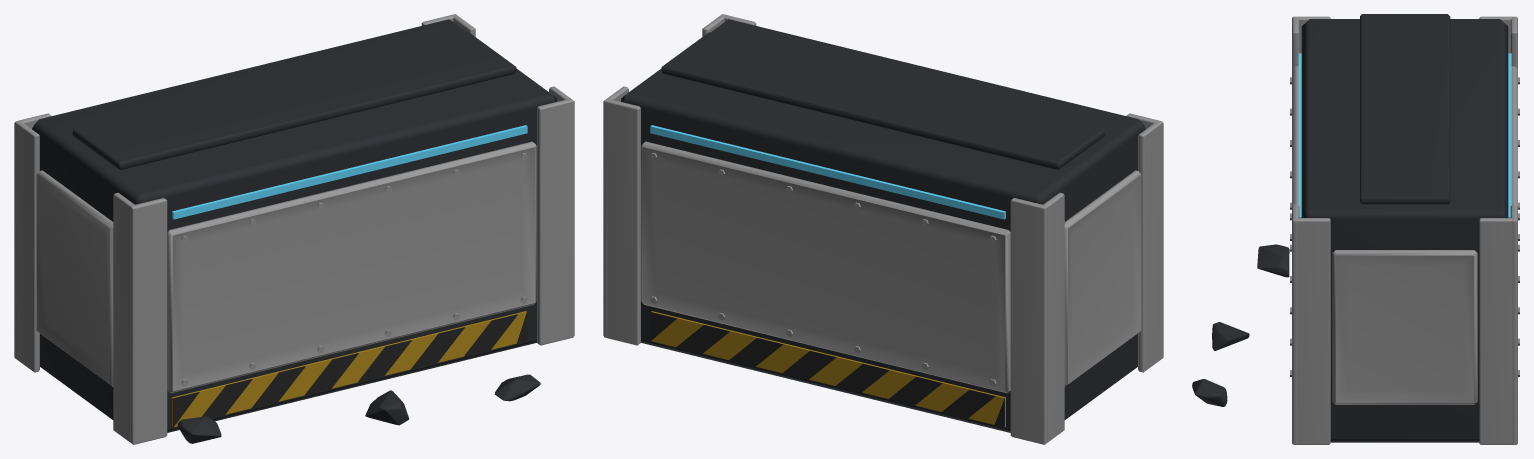
Rendered from Core_CoverBlock.fbx.
3 views of the same model, side by side, from view 1: azimuth 30°, elevation 25°; view 2: azimuth 150°, elevation 25°; view 3: azimuth 270°, elevation 25° (orthographic). The views are drawn at different scales.
Parts seen in each view (by area): view 1: Core_CoverBlock_LOD0; view 2: Core_CoverBlock_LOD0; view 3: Core_CoverBlock_LOD0.
Boxes of the visible parts, x1,y1,x2,y2 form: Core_CoverBlock_LOD0: [14, 14, 574, 444]; Core_CoverBlock_LOD0: [603, 14, 1163, 444]; Core_CoverBlock_LOD0: [1192, 14, 1519, 444].
Size of what is drawn, in the model's own units: 3 by 1.66 by 2.03.
